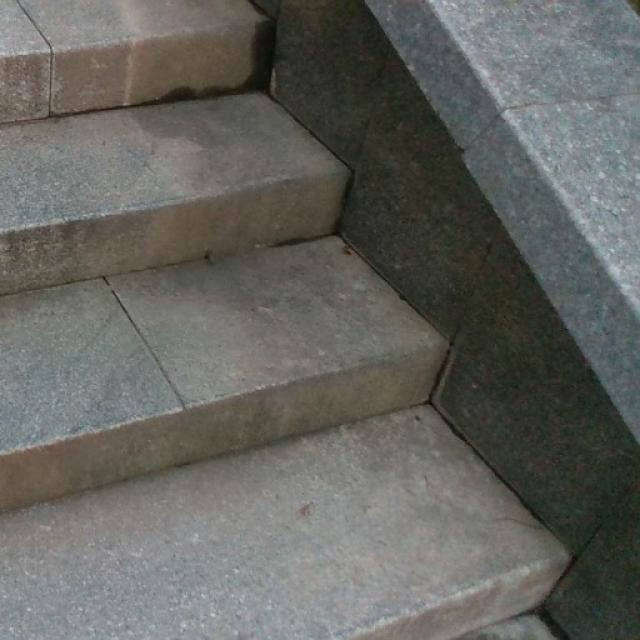Stairs: (0, 0, 574, 639)
